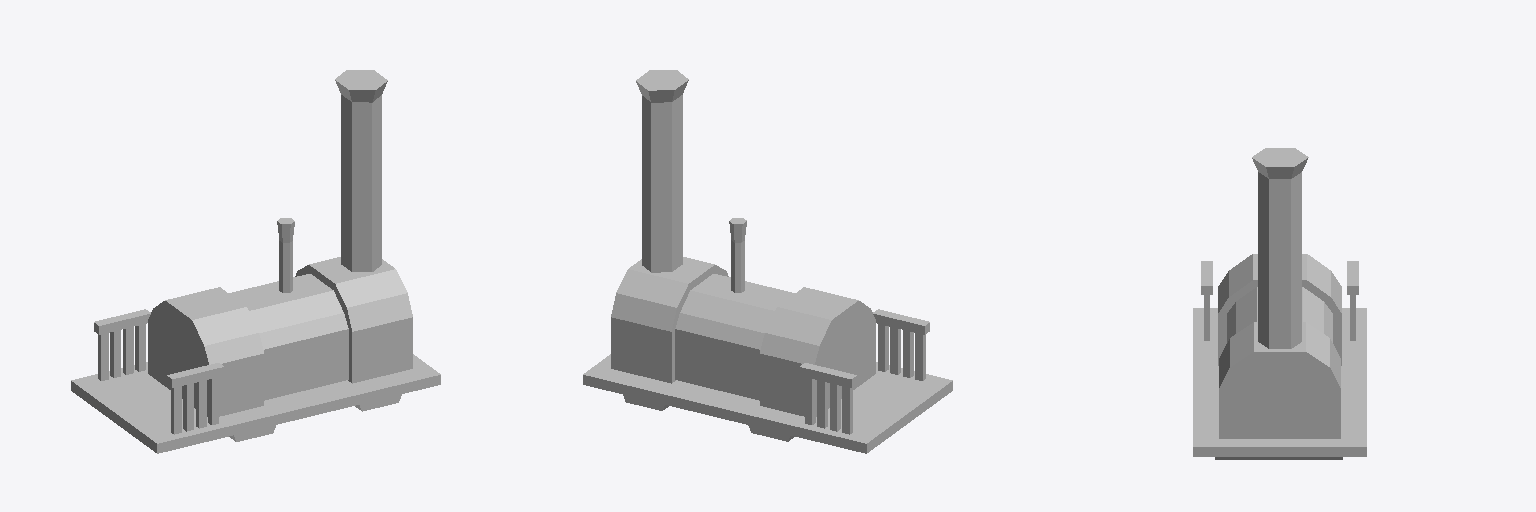
The model's file is cherepanov.obj.
3 renders of one model, left to right at view 1: azimuth 30°, elevation 25°; view 2: azimuth 150°, elevation 25°; view 3: azimuth 270°, elevation 25°, orthographic.
Visible parts, largest first — view 1: Cube_Cube.020; view 2: Cube_Cube.020; view 3: Cube_Cube.020.
Boxes of the visible parts, box(x1,y1,x2,y2) form: Cube_Cube.020: box(71, 70, 440, 453); Cube_Cube.020: box(583, 70, 952, 453); Cube_Cube.020: box(1193, 148, 1366, 459).
Bounding box in the file's own units: 2.8 × 2.83 × 1.48.